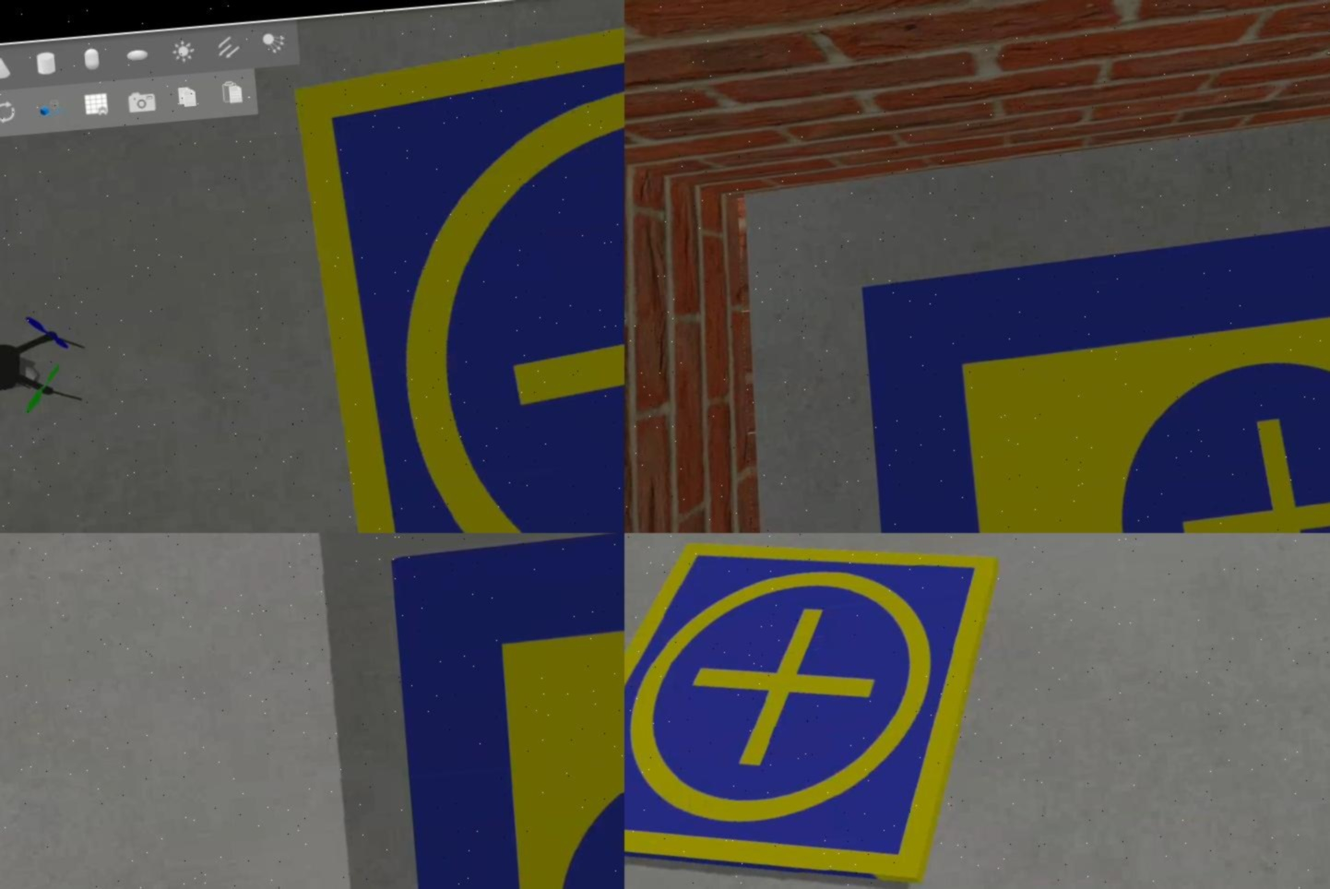large_base: (853, 184, 1330, 534), (388, 534, 624, 889)
small_base: (287, 1, 624, 534), (624, 534, 1032, 889)
